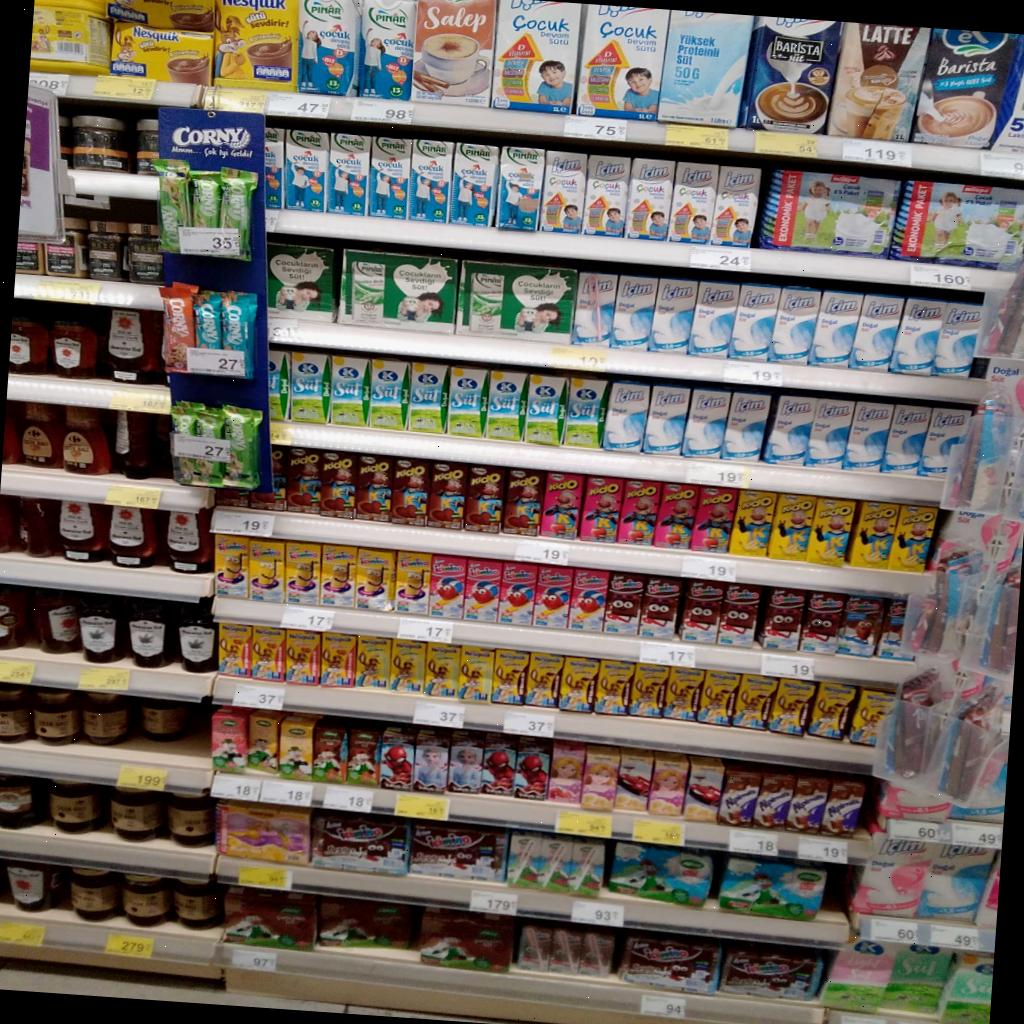price_tag: (843, 139, 912, 168), (211, 509, 274, 538), (690, 245, 751, 273), (665, 124, 729, 150), (910, 264, 973, 290), (755, 132, 818, 158), (686, 462, 749, 488), (265, 93, 330, 118), (565, 116, 627, 142), (639, 640, 696, 668), (723, 361, 783, 387), (395, 793, 450, 821), (555, 811, 612, 838), (548, 346, 607, 372), (259, 779, 313, 807), (351, 99, 414, 123), (681, 556, 736, 583), (571, 900, 625, 927), (761, 653, 815, 680), (322, 786, 374, 814), (413, 701, 464, 729), (210, 88, 267, 113), (280, 606, 334, 632), (397, 618, 453, 643), (868, 918, 920, 944), (503, 711, 555, 737), (515, 541, 569, 566), (238, 865, 292, 890), (212, 774, 262, 801), (930, 924, 981, 950), (633, 820, 684, 846), (951, 822, 1002, 848), (232, 685, 285, 710), (728, 829, 777, 856), (889, 820, 949, 842), (798, 837, 848, 863), (980, 151, 1023, 180), (469, 890, 518, 915), (641, 995, 686, 1020), (231, 948, 277, 972), (269, 319, 299, 343), (269, 422, 293, 445), (840, 1014, 888, 1023), (897, 1021, 917, 1023)
product: (914, 28, 1019, 148), (827, 22, 930, 142), (764, 168, 899, 255), (741, 16, 841, 133), (891, 181, 1024, 267), (658, 10, 752, 127), (577, 4, 669, 120), (457, 261, 577, 344), (493, 0, 580, 114), (339, 249, 457, 332), (411, 0, 496, 107), (847, 833, 941, 917), (215, 0, 298, 90), (718, 856, 826, 921), (609, 843, 713, 907), (506, 831, 604, 896), (297, 0, 362, 96), (311, 813, 410, 875), (913, 844, 992, 921), (620, 934, 721, 993), (420, 909, 514, 972), (409, 822, 507, 882), (719, 944, 822, 1001), (224, 887, 317, 950), (218, 802, 310, 864), (516, 923, 617, 978), (360, 0, 414, 100), (821, 940, 893, 1013), (267, 245, 334, 319), (319, 898, 417, 948), (883, 945, 951, 1014), (890, 298, 947, 375), (849, 294, 904, 371), (709, 167, 761, 248), (449, 143, 499, 227), (808, 290, 862, 367), (625, 158, 675, 241), (728, 283, 781, 361), (668, 162, 718, 244), (937, 954, 994, 1024), (762, 395, 818, 466), (497, 146, 544, 230), (770, 287, 821, 364), (990, 36, 1024, 150), (688, 281, 739, 357), (583, 156, 630, 237), (408, 139, 453, 223), (948, 760, 1007, 824), (541, 151, 586, 234), (285, 128, 329, 212), (650, 278, 698, 355), (843, 401, 895, 472), (326, 133, 370, 216), (881, 404, 932, 475), (933, 302, 981, 377), (681, 388, 731, 459), (919, 409, 970, 478), (611, 275, 657, 351), (368, 137, 410, 220), (602, 381, 651, 452), (848, 501, 899, 568), (806, 400, 855, 469), (644, 385, 691, 456), (720, 392, 769, 460), (562, 378, 609, 448), (888, 505, 937, 572), (728, 490, 777, 557), (572, 273, 616, 347), (524, 374, 568, 445), (808, 499, 855, 565), (768, 494, 815, 560), (539, 472, 584, 540), (799, 591, 847, 654), (580, 476, 625, 543), (691, 487, 736, 553), (679, 580, 726, 643), (760, 587, 806, 651), (486, 371, 528, 441), (878, 782, 950, 822), (654, 483, 698, 548), (807, 683, 857, 740), (369, 359, 409, 430), (408, 363, 448, 434), (448, 366, 488, 437), (427, 461, 468, 530), (502, 469, 544, 536), (291, 352, 330, 424), (785, 772, 831, 833), (718, 583, 762, 646), (331, 356, 370, 426), (683, 756, 724, 822), (617, 481, 659, 545), (567, 568, 609, 632), (640, 576, 682, 640), (354, 455, 394, 522), (768, 678, 815, 735), (820, 778, 866, 836), (753, 767, 796, 829), (604, 573, 646, 636), (731, 675, 779, 730), (839, 596, 882, 657), (718, 765, 761, 826), (391, 459, 430, 526), (465, 466, 504, 533), (848, 688, 893, 746), (211, 707, 250, 773), (278, 714, 316, 781), (648, 754, 689, 816), (499, 562, 538, 626), (582, 746, 620, 811), (697, 670, 741, 726), (355, 548, 394, 611), (534, 566, 573, 629), (428, 555, 466, 619), (463, 559, 501, 623), (320, 451, 355, 520), (482, 733, 519, 798), (615, 749, 653, 812), (321, 544, 358, 608), (548, 741, 585, 805), (250, 447, 286, 512), (286, 448, 322, 512), (413, 730, 449, 794), (559, 656, 600, 712), (248, 540, 285, 602), (285, 542, 321, 605), (448, 731, 484, 794), (514, 739, 551, 800), (663, 667, 705, 720), (629, 663, 670, 717), (594, 660, 635, 714), (395, 551, 430, 614), (380, 726, 414, 790), (524, 653, 564, 707), (215, 535, 249, 598), (312, 720, 346, 783), (457, 645, 494, 702), (877, 598, 911, 660), (491, 649, 529, 704), (346, 728, 381, 787), (247, 710, 279, 774), (285, 629, 321, 685), (975, 851, 1001, 928), (423, 643, 460, 696), (390, 639, 426, 693), (320, 633, 356, 687), (355, 635, 391, 688), (217, 621, 251, 677), (251, 626, 284, 682), (264, 127, 284, 209), (268, 350, 291, 420)
